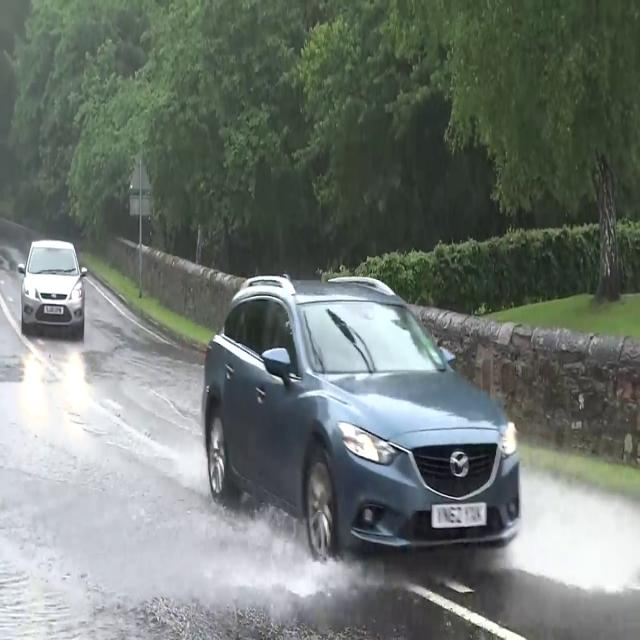license-plate-annotation: (427, 498, 490, 529)
